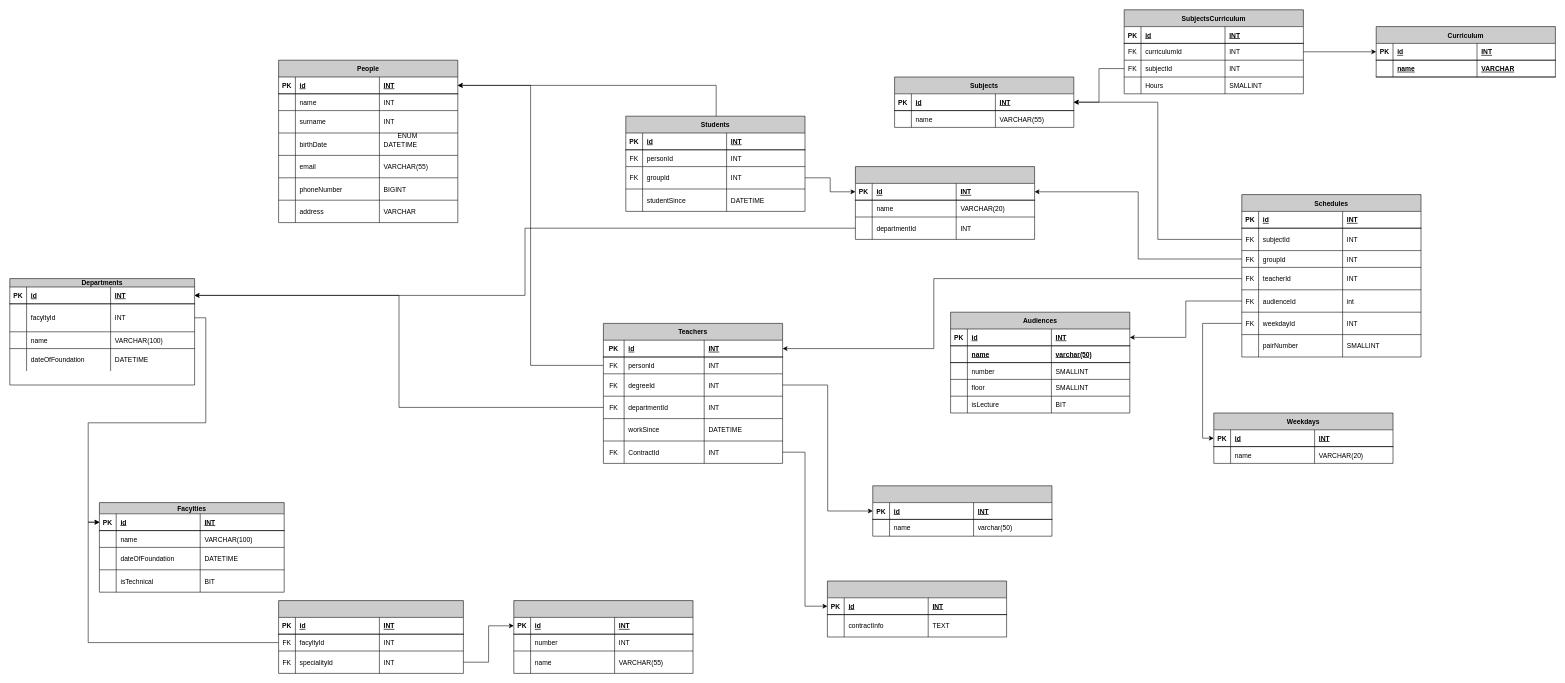
This 1565x683 diagram has some shape labels left out. Here are the shapes that lost their labels. From the top down, the box of each, then its label:
(855, 166, 1035, 239): Groups
(872, 485, 1052, 536): Degrees
(827, 580, 1007, 637): Contracts
(278, 600, 463, 673): SpecialtiesOnFacylties
(513, 600, 693, 673): Specialties
